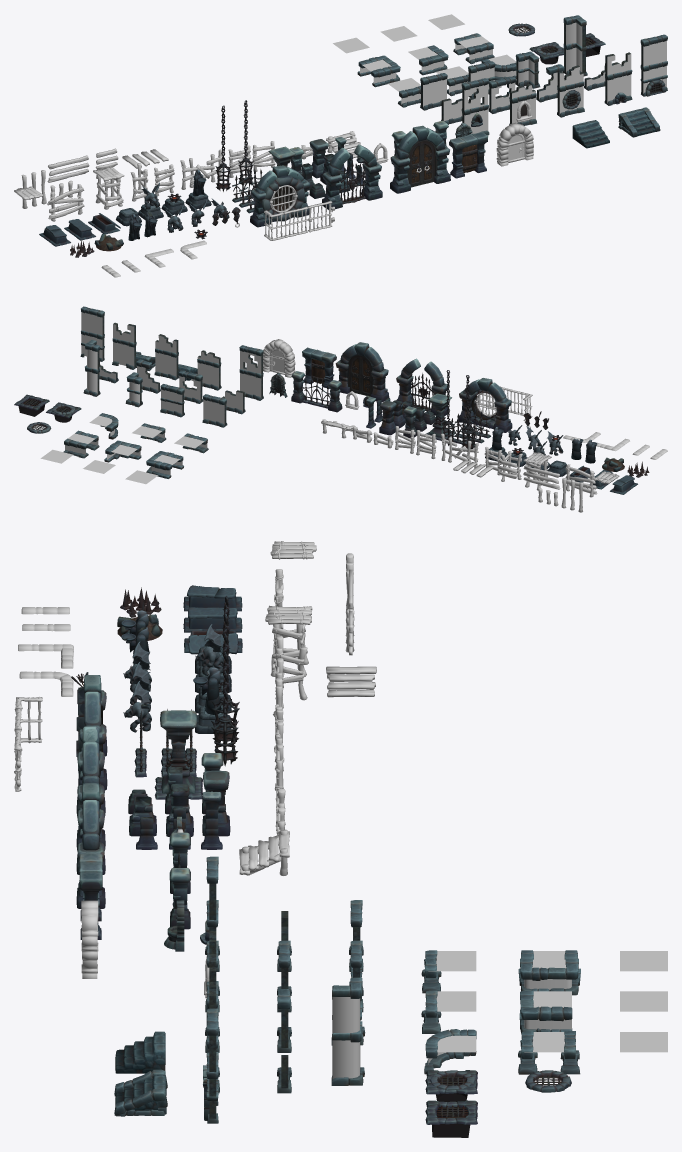
Rendered from Dungeon_set.fbx.
The picture shows the model from 3 angles, top to bottom: view 1: azimuth 30°, elevation 25°; view 2: azimuth 150°, elevation 25°; view 3: azimuth 270°, elevation 25°; orthographic projection. The views are drawn at different scales.
Visible parts, largest first — view 1: sewer_bigframe, door_framebig_A, door_framebig_B, door_framesmall_A, floor_border_middle_C, steps, door_framesmall_B, wood_structure_B, floor_border_middle_D, wall_A, sewer_wall_B, sewer_wall_C (+40 smaller); view 2: sewer_bigframe, door_framebig_A, fence_B, door_framebig_B, door_framesmall_A, floor_border_middle_C, wall_A, wall_B, door_framesmall_B, floor_border_middle_D, sewer_wall_C, pillar_big_B (+33 smaller); view 3: floor_border_middle_C, pillar_big_B, floor_border_corner_B, steps, door_framebig_A, floor_border_middle_D, sewer_bigframe, sewer_B, door_framebig_B, wood_structure_B, steps2, wall_corner_B (+19 smaller).
Boxes of the visible parts, box(x1,y1,x2,y2) form: sewer_bigframe: box(250, 165, 310, 227); door_framebig_A: box(390, 125, 450, 193); door_framebig_B: box(322, 144, 382, 209); door_framesmall_A: box(449, 131, 488, 178); floor_border_middle_C: box(357, 55, 400, 87); steps: box(618, 107, 660, 137); door_framesmall_B: box(496, 122, 533, 166); wood_structure_B: box(93, 166, 124, 209); floor_border_middle_D: box(453, 33, 494, 64); wall_A: box(420, 73, 447, 110); sewer_wall_B: box(604, 69, 632, 105); sewer_wall_C: box(557, 81, 584, 117); sewer_bigframe: box(458, 378, 512, 432); door_framebig_A: box(335, 342, 389, 402); fence_B: box(291, 371, 342, 412); door_framebig_B: box(396, 358, 449, 416); door_framesmall_A: box(302, 347, 336, 388); floor_border_middle_C: box(146, 451, 183, 478); wall_A: box(202, 394, 227, 427); wall_B: box(160, 384, 184, 417); door_framesmall_B: box(263, 339, 295, 377); floor_border_middle_D: box(63, 430, 99, 458); sewer_wall_C: box(154, 348, 179, 380); pillar_big_B: box(425, 393, 455, 440); floor_border_middle_C: box(518, 950, 580, 995); pillar_big_B: box(154, 710, 202, 799); floor_border_corner_B: box(519, 991, 572, 1034); steps: box(114, 1069, 167, 1116); door_framebig_A: box(76, 783, 105, 908); floor_border_middle_D: box(518, 1031, 580, 1074); sewer_bigframe: box(76, 675, 107, 790); sewer_B: box(425, 1100, 477, 1137); door_framebig_B: box(76, 726, 105, 849); wood_structure_B: box(265, 605, 312, 676); steps2: box(115, 1031, 165, 1073); wall_corner_B: box(331, 1021, 364, 1085).
Bounding box in the file's own units: 5243 × 809 × 2728.
